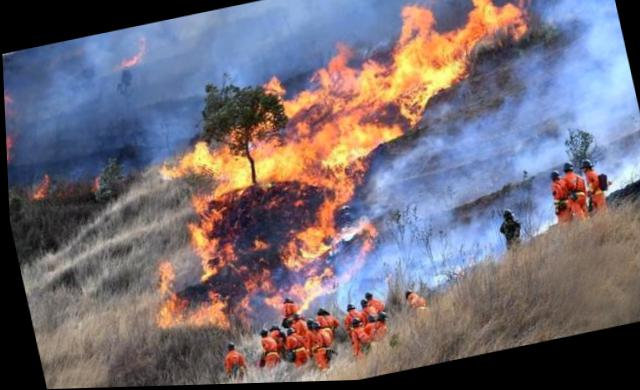fire: (94, 0, 586, 343), (26, 163, 104, 207), (3, 88, 26, 171)
